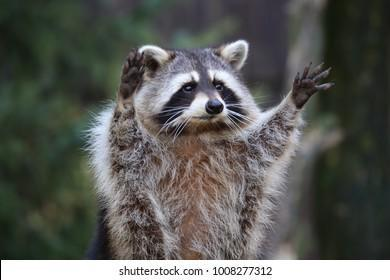raccoon: (91, 38, 337, 261)
